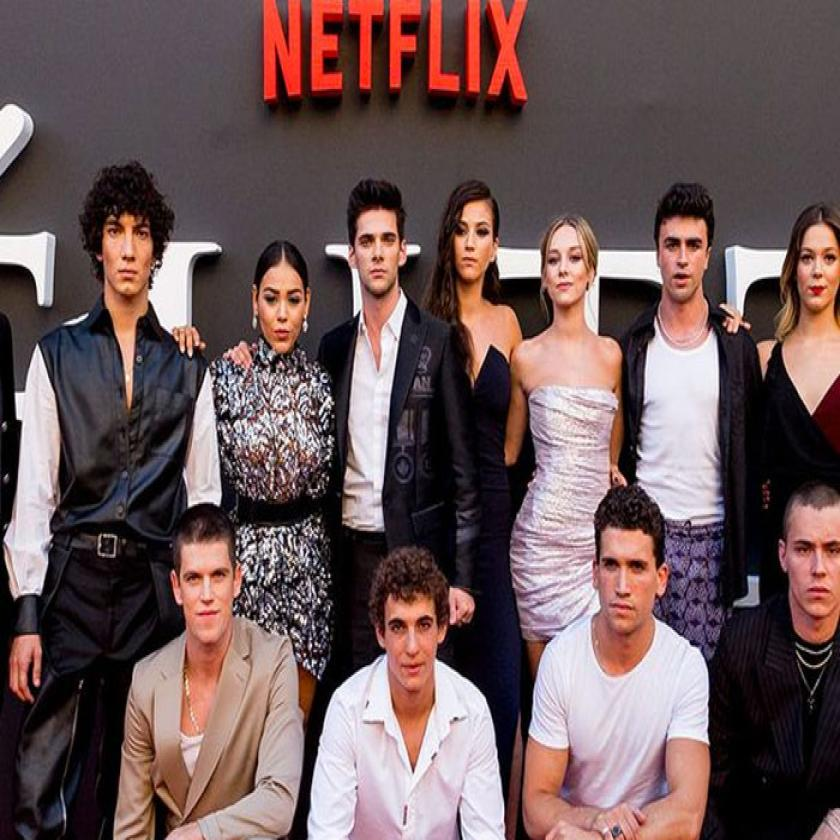Sin_casco: (586, 476, 672, 644), (169, 498, 248, 654), (376, 546, 452, 701), (90, 161, 164, 313), (776, 482, 840, 645), (652, 172, 724, 300), (535, 211, 605, 330), (350, 178, 410, 316), (783, 199, 840, 329), (255, 241, 312, 367), (448, 180, 502, 296)
